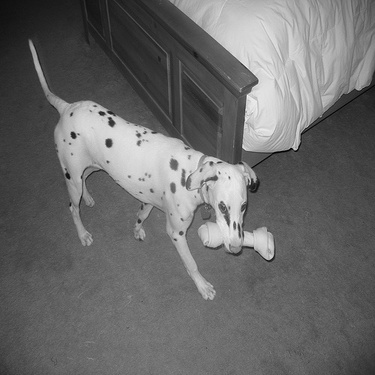dog: (23, 33, 262, 304)
